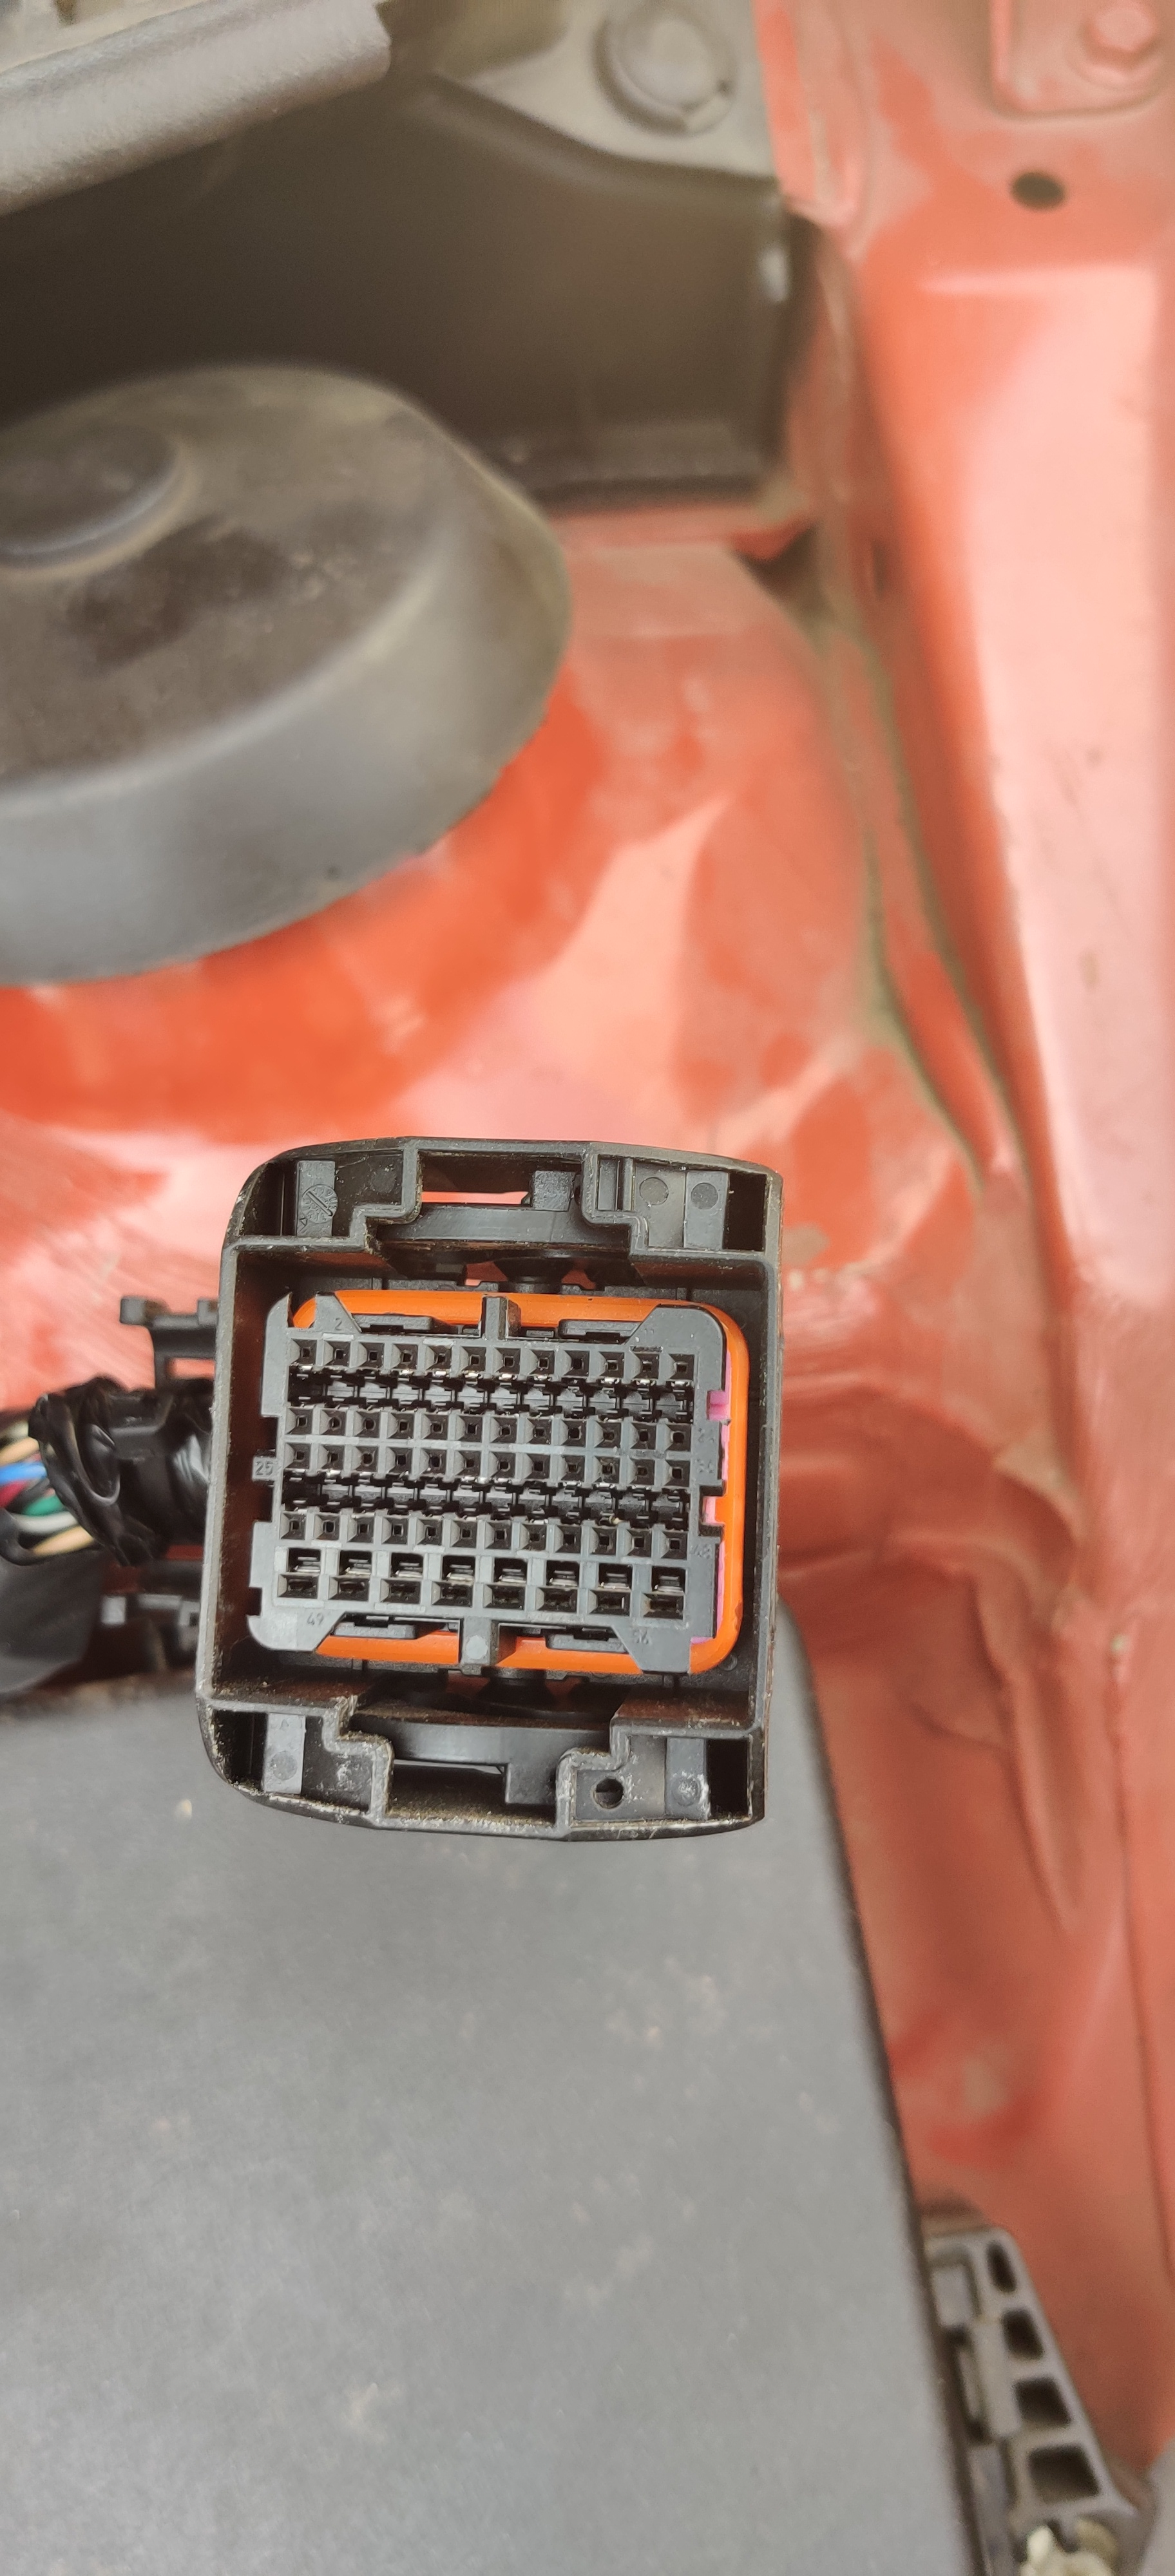connector: (187, 1101, 820, 1876)
